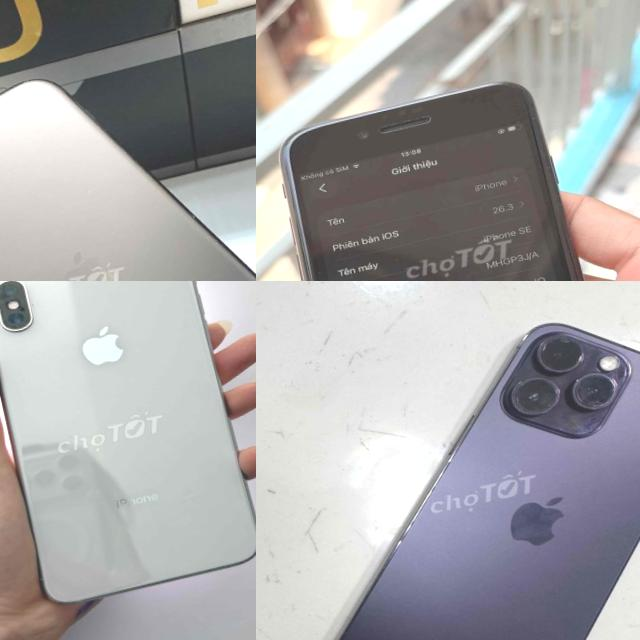scratch: (500, 367, 570, 424), (562, 367, 628, 421), (530, 326, 592, 380), (562, 408, 630, 443), (588, 342, 636, 388), (369, 108, 438, 136), (78, 179, 96, 201), (25, 296, 41, 312)
